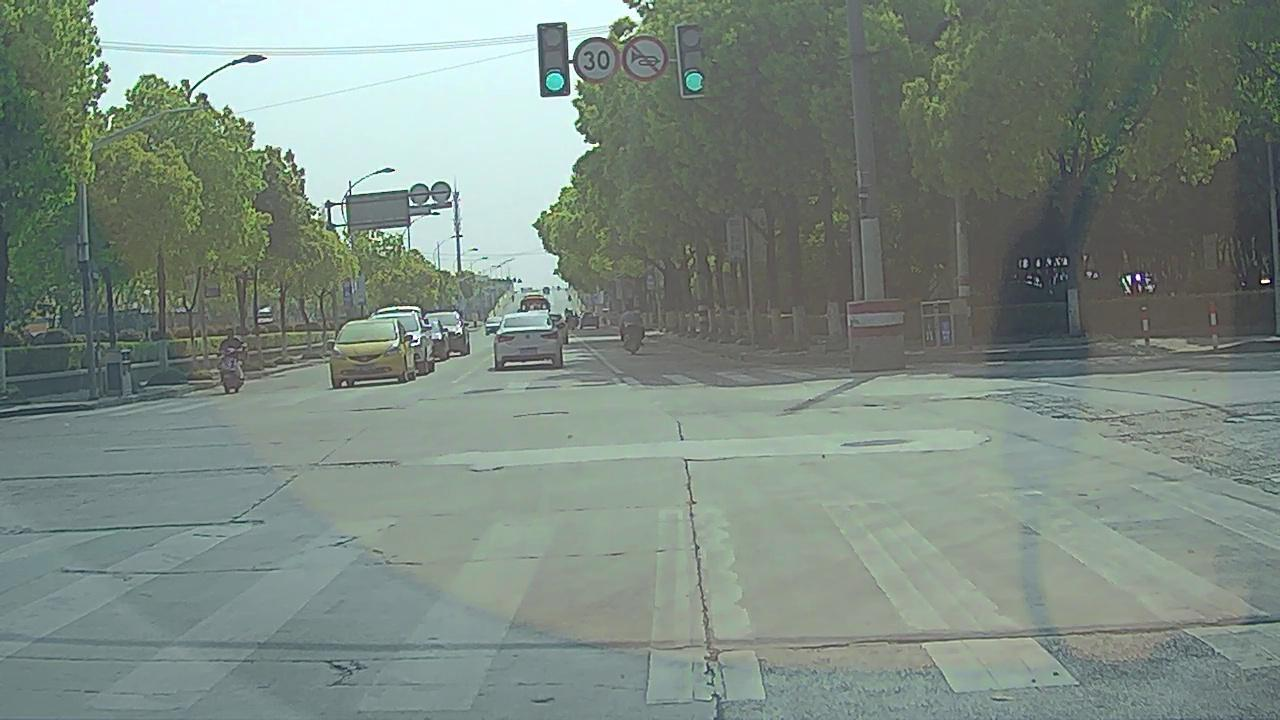traffic_light: (538, 23, 569, 96), (678, 27, 708, 95)
